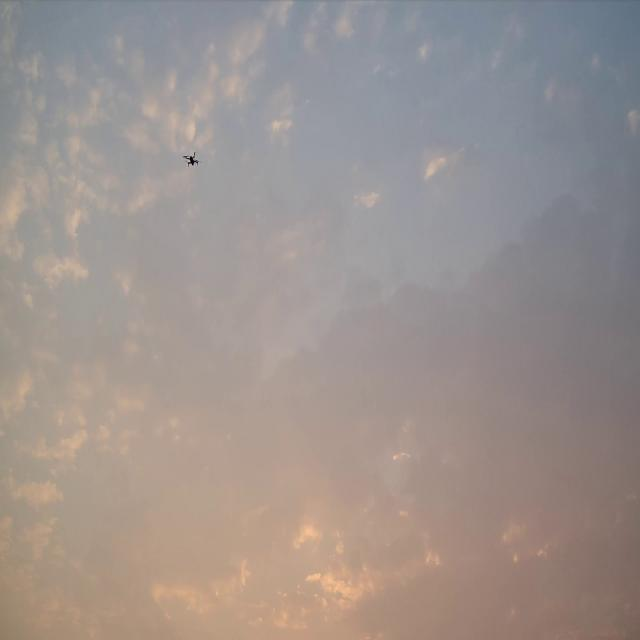drone: (182, 151, 202, 167)
